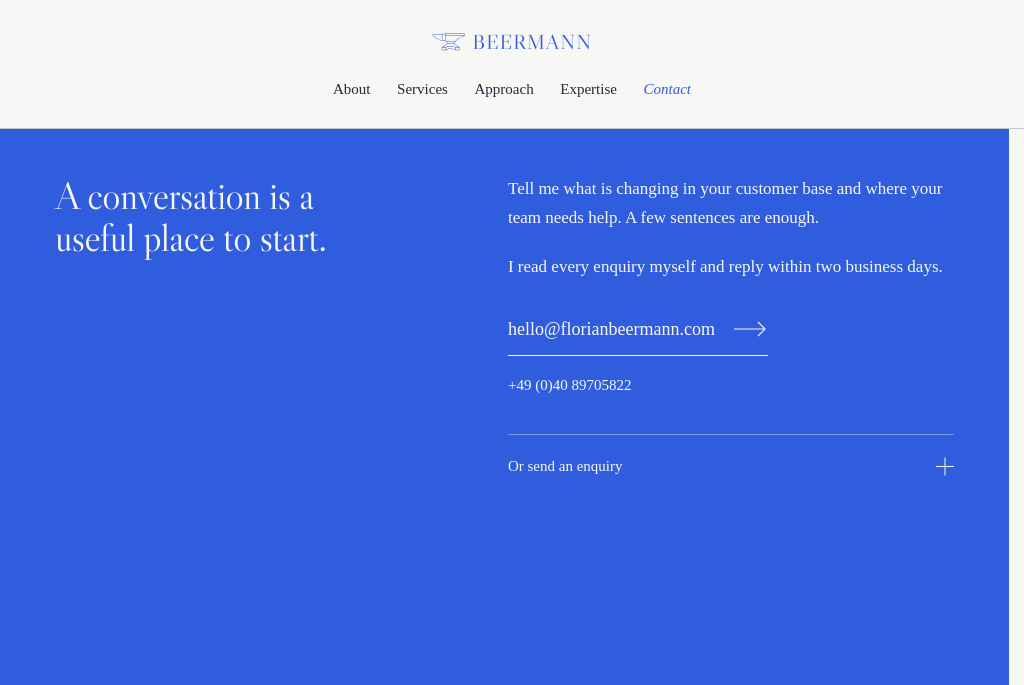
Test: boutique homepage › delivers real enquiries and keeps the successful confirmation visible
Step 1. Click the heading "Or send an enquiry" → [565, 466], box [508,458,954,476]
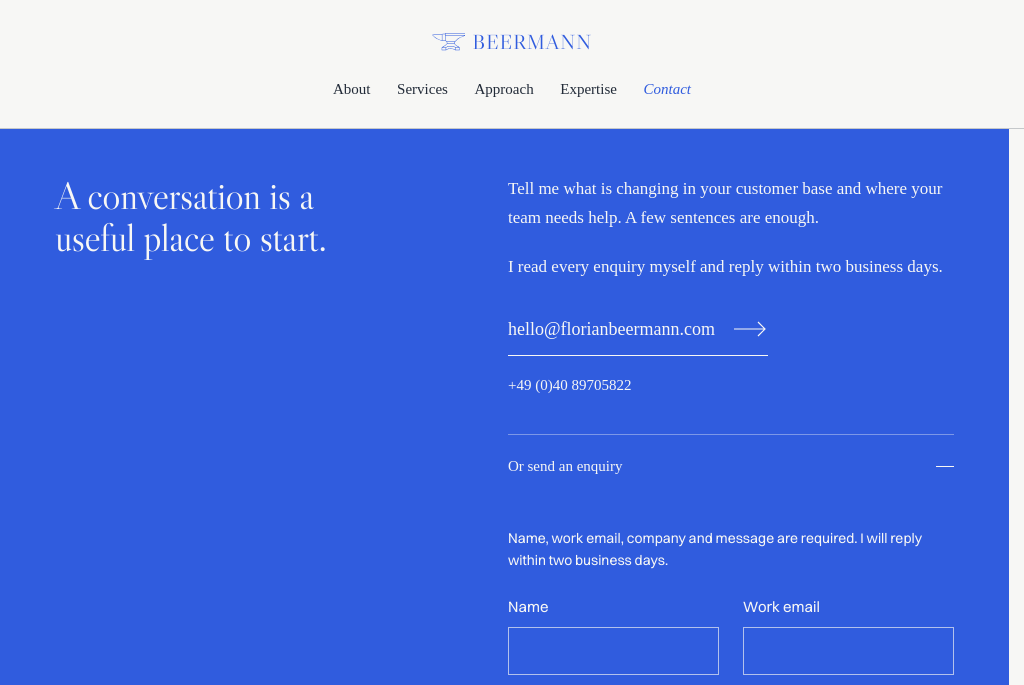
Step 2. Type "Jane Doe" into the field labelled "Name" → [613, 651], box [508,627,719,675]
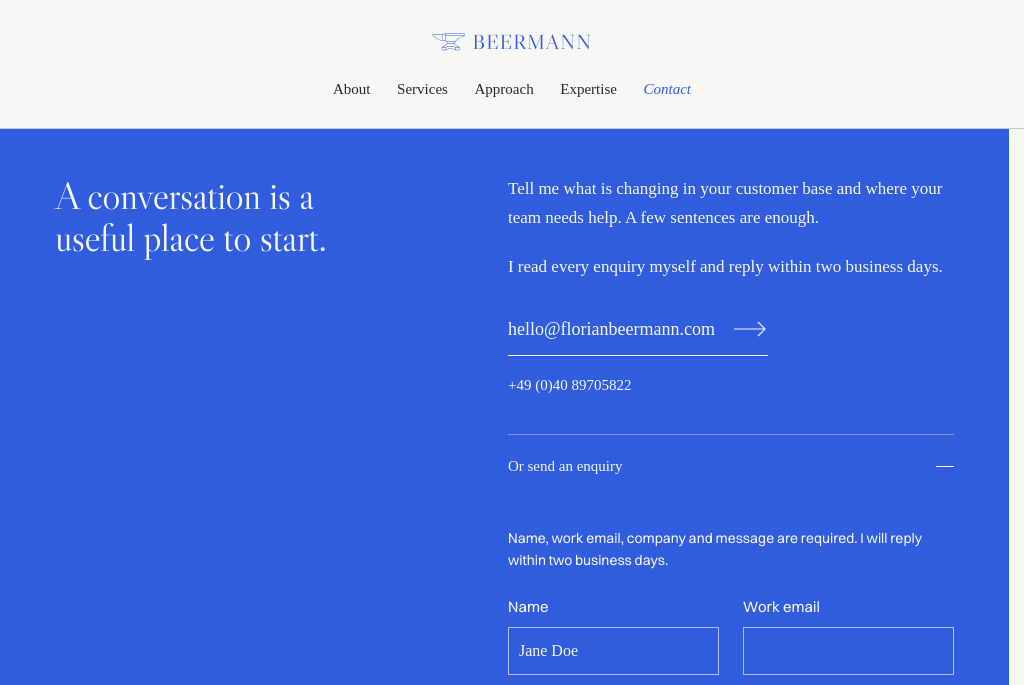
Step 3. Type "jane@example.com" into the field labelled "Work email" → [848, 651], box [743,627,954,675]
(page scrolled)
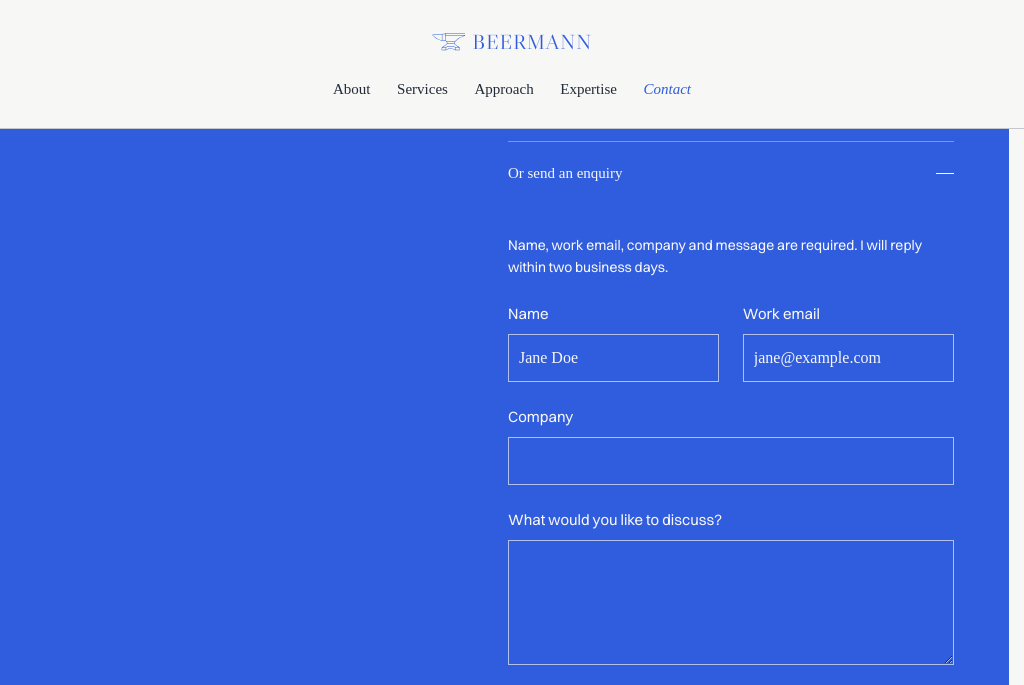
Step 4. Type "Example company" into the field labelled "Company" → [731, 461], box [508,437,954,485]
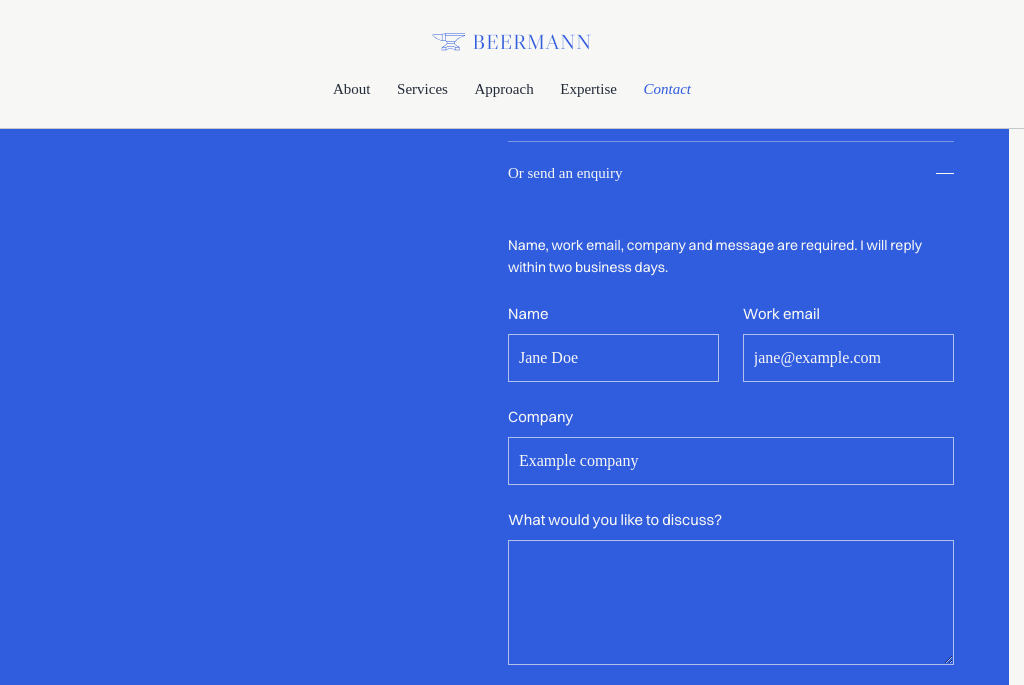
Step 5. Type "Our customers have different onboarding needs." into the text box labelled "What would you like to discuss?" → [731, 602], box [508,540,954,665]
(page scrolled)
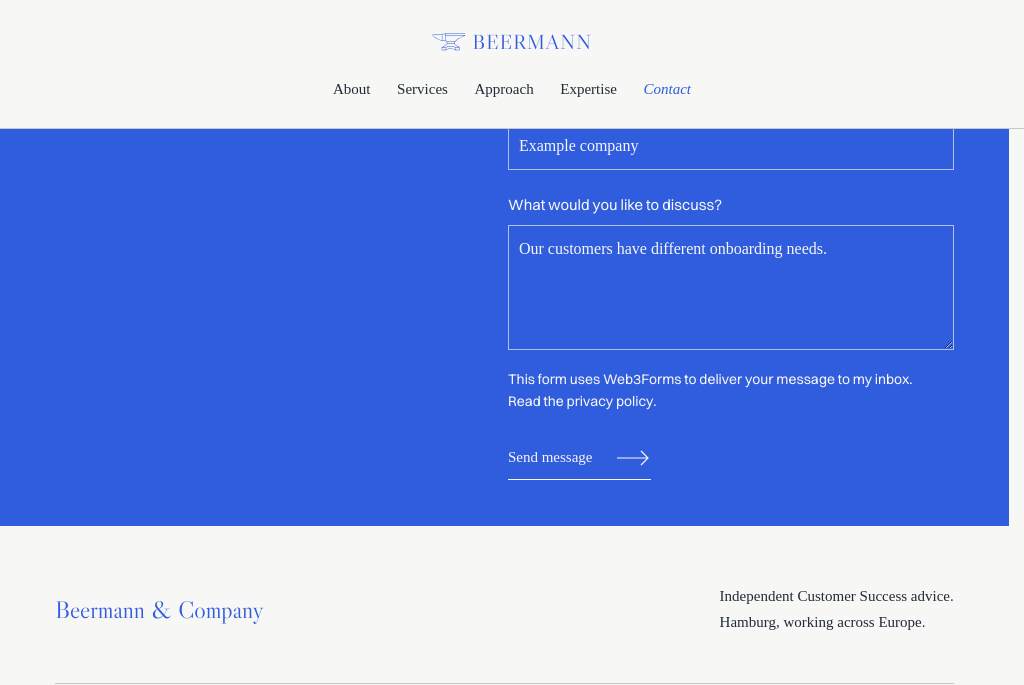
Step 6. Click the button "Send message" → [579, 458], box [508,436,650,480]
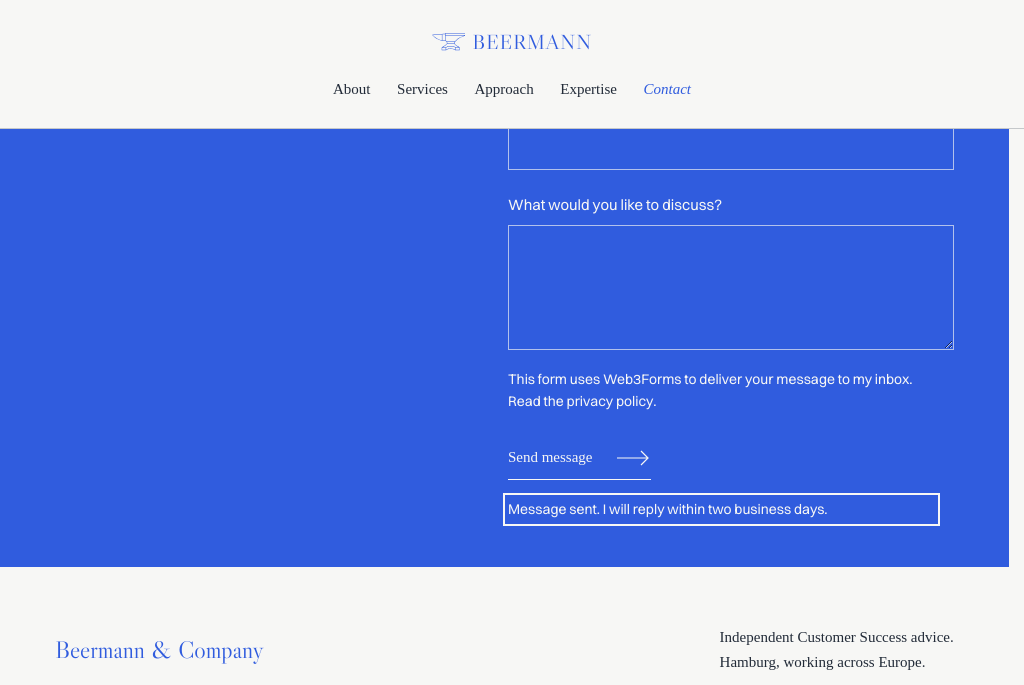
Check: the message reads "Message sent. I will reply within two business days.", box [508,500,828,518]
